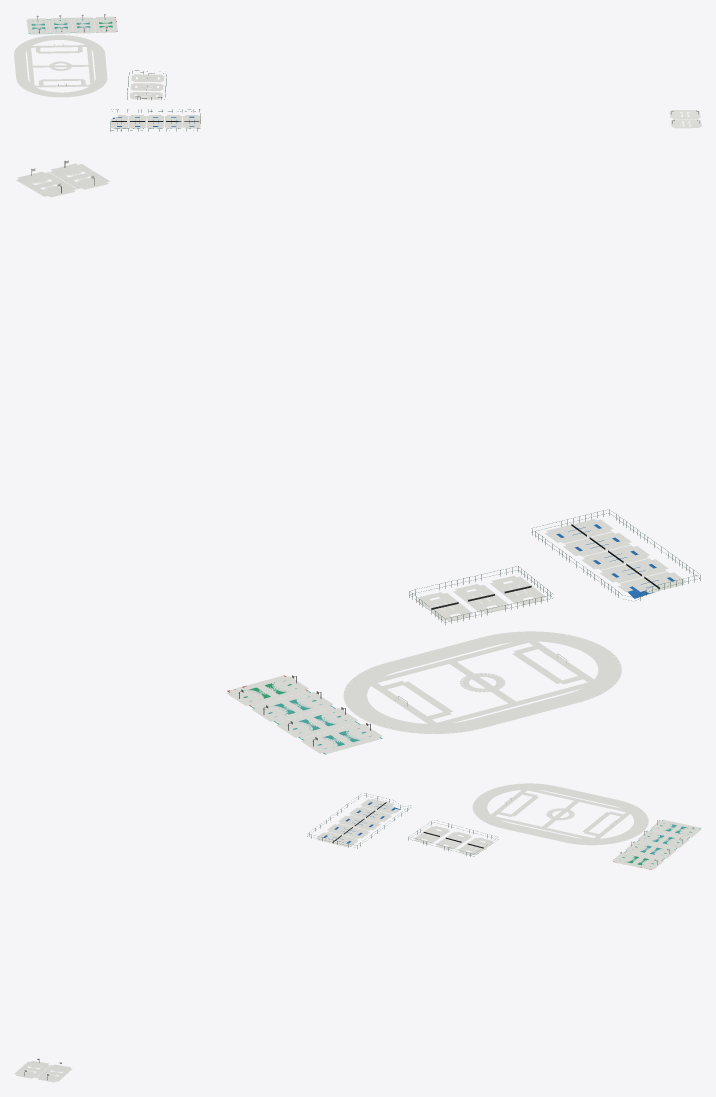
3 renders of one model, top to bottom at view 1: azimuth 30°, elevation 25°; view 2: azimuth 150°, elevation 25°; view 3: azimuth 270°, elevation 25°, orthographic. The views are drawn at different scales.
Parts seen in each view (by area): view 1: running-track, basketball-four-courts, tennis-lines-nets-fence, football-lines-goals, sports-campus, sports-context; view 2: running-track, basketball-four-courts, tennis-lines-nets-fence, football-lines-goals, sports-campus, sports-context; view 3: running-track, basketball-four-courts, tennis-lines-nets-fence, football-lines-goals, sports-campus, sports-context.
Part boxes in pixels (x1=…): running-track: x1=14, y1=35, x2=107, y2=97; basketball-four-courts: x1=26, y1=14, x2=117, y2=34; tennis-lines-nets-fence: x1=110, y1=109, x2=200, y2=131; football-lines-goals: x1=26, y1=43, x2=94, y2=87; sports-campus: x1=127, y1=70, x2=166, y2=99; sports-context: x1=669, y1=110, x2=701, y2=128; running-track: x1=343, y1=631, x2=621, y2=733; basketball-four-courts: x1=227, y1=675, x2=382, y2=754; tennis-lines-nets-fence: x1=531, y1=509, x2=700, y2=600; football-lines-goals: x1=367, y1=638, x2=597, y2=726; sports-campus: x1=409, y1=566, x2=553, y2=624; sports-context: x1=16, y1=160, x2=110, y2=197; running-track: x1=472, y1=783, x2=648, y2=845; basketball-four-courts: x1=612, y1=820, x2=701, y2=869; tennis-lines-nets-fence: x1=307, y1=793, x2=410, y2=848; football-lines-goals: x1=489, y1=788, x2=631, y2=840; sports-campus: x1=408, y1=820, x2=498, y2=856; sports-context: x1=14, y1=1058, x2=72, y2=1082.
Bounding box in the file's own units: 475 × 7.18 × 466.
Materials: 12 (1 with a texture image).
